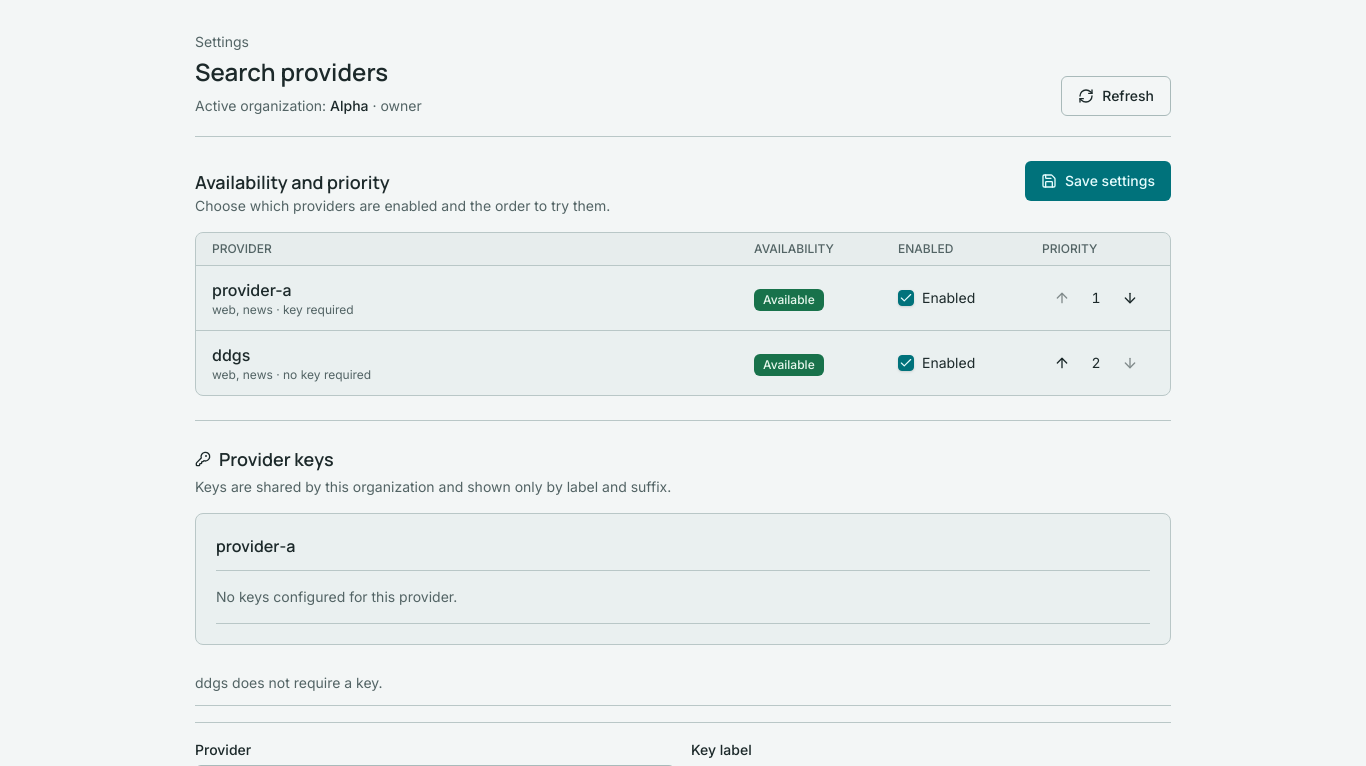
Search settings page › keeps the last provider data visible and offers retry when refresh fails
The image size is (1366, 766).
Step 1. Click the button with aria-label "Refresh Search settings" → (1116, 96), box [1061,76,1171,116]
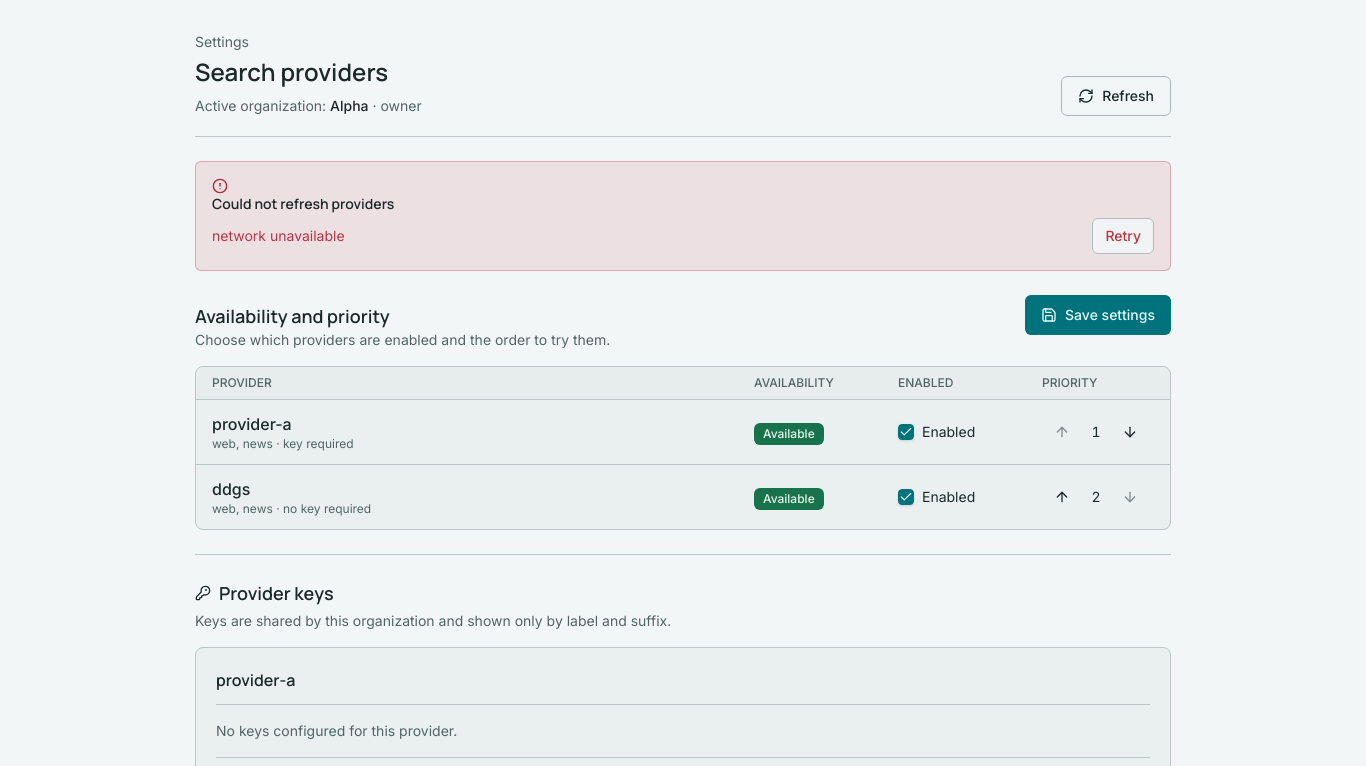
Check: the text "provider-a" is shown, box [212,414,292,434]
Check: the text "network unavailable" is shown, box [212,226,345,246]
Check: the button "Retry" is shown, box [1092,218,1154,254]
